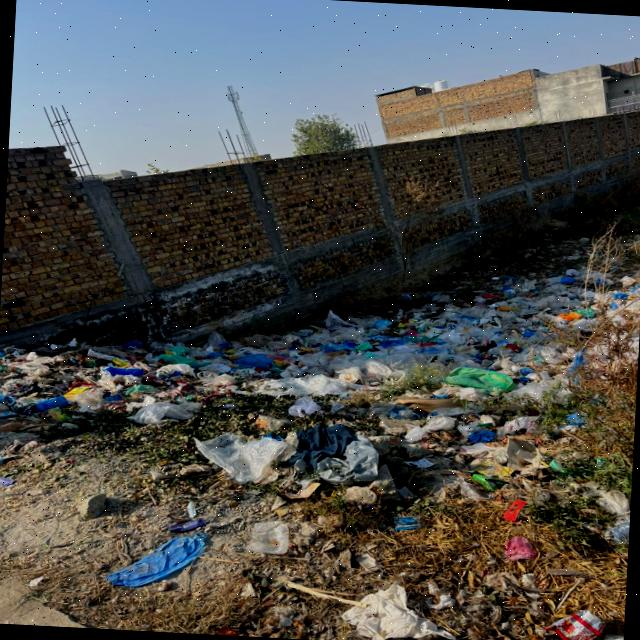garbage: (0, 340, 614, 489), (204, 267, 640, 374)
